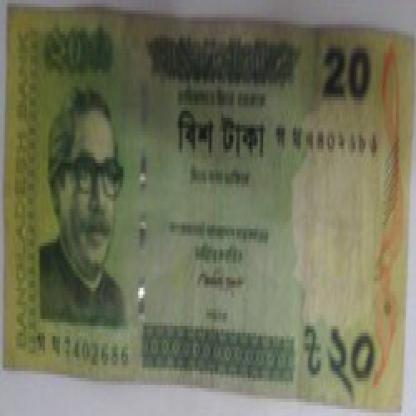Twenty: (300, 316, 378, 402), (173, 104, 268, 166), (316, 38, 378, 111), (48, 24, 115, 80)
